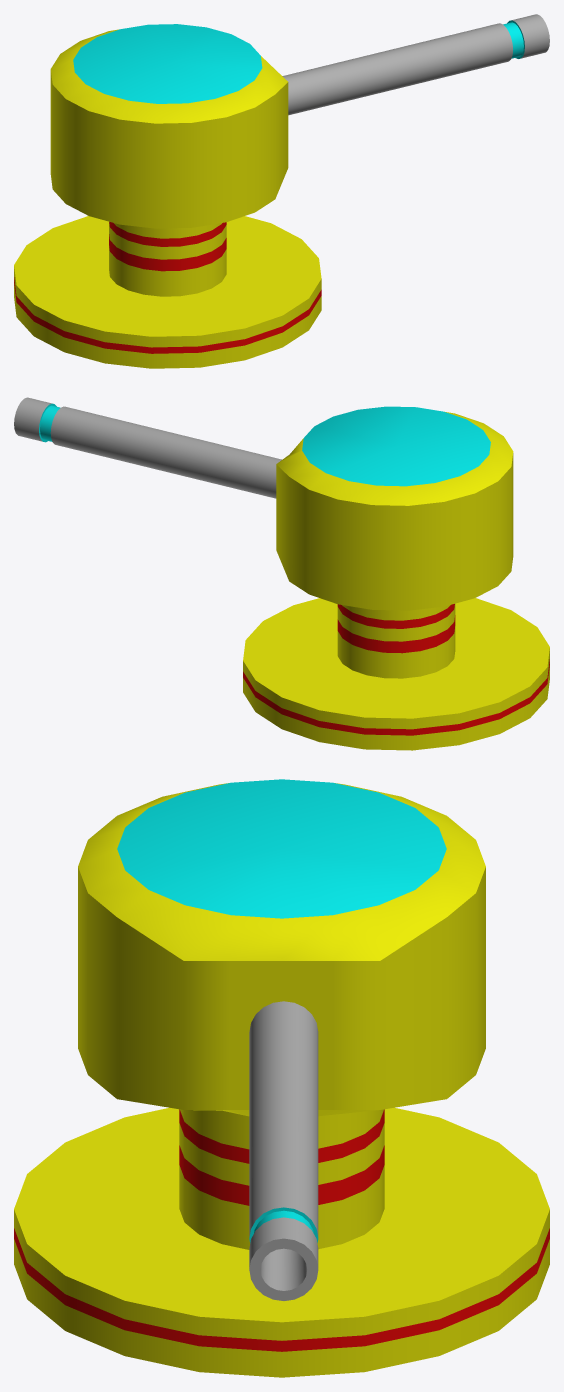
Rendered from Arma1.fbx.
3 views of the same model, one above another, from view 1: azimuth 30°, elevation 25°; view 2: azimuth 150°, elevation 25°; view 3: azimuth 270°, elevation 25° (orthographic). The views are drawn at different scales.
Visible parts, largest first — view 1: pCylinder2; view 2: pCylinder2; view 3: pCylinder2.
Part boxes in pixels (<box>): pCylinder2: <box>14,14,549,368</box>; pCylinder2: <box>14,397,549,750</box>; pCylinder2: <box>14,779,549,1377</box>.
Size of the model in its own units: 37.84 by 17.11 by 20.
